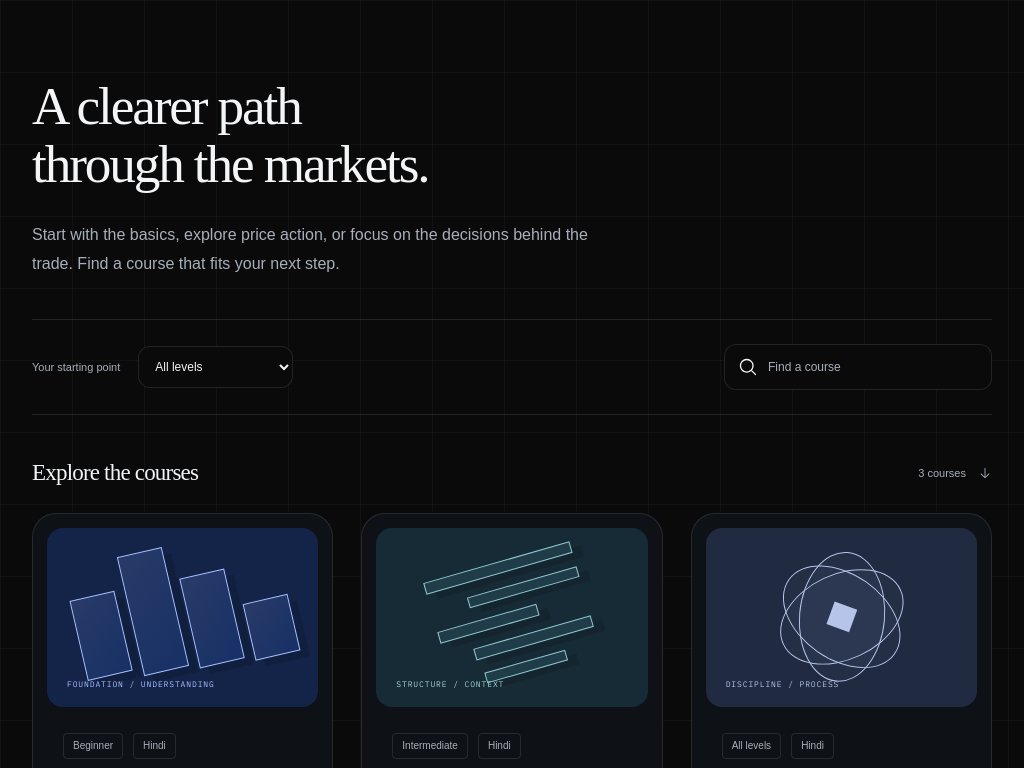
Test: CataloguePage › filters courses by starting level
Select "Beginner" in the dropdown labelled "Your starting point" at coordinates (216, 367), box [138, 346, 293, 388]
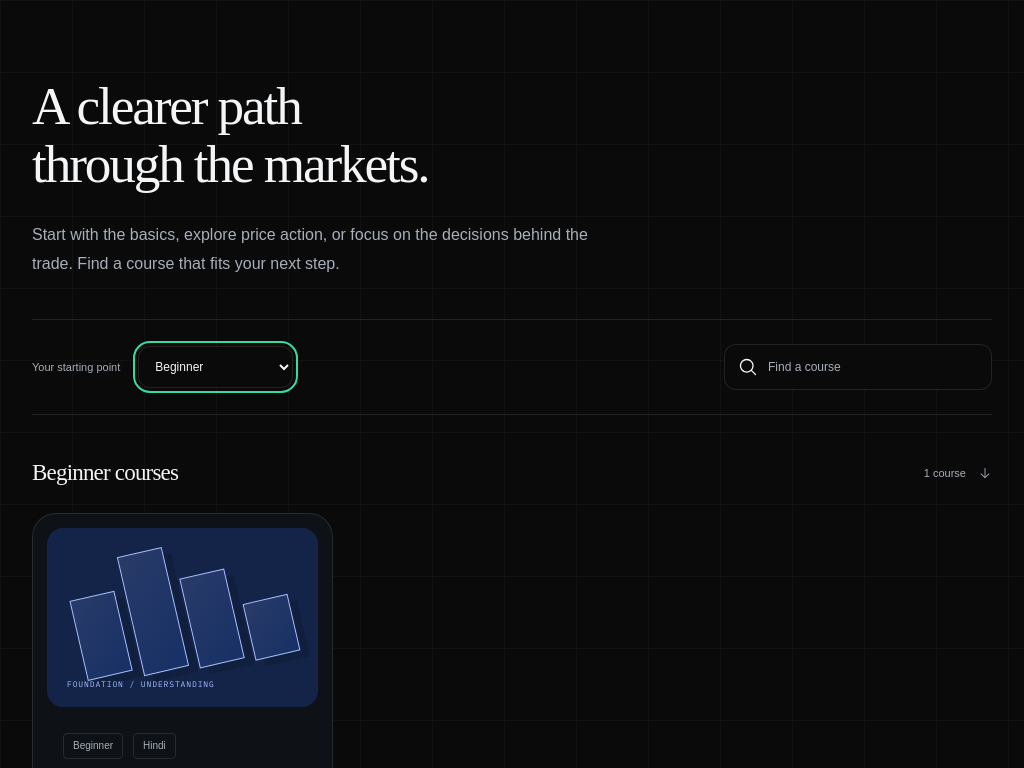
expect the heading "Beginner courses" is shown: met, box [32, 460, 178, 486]
